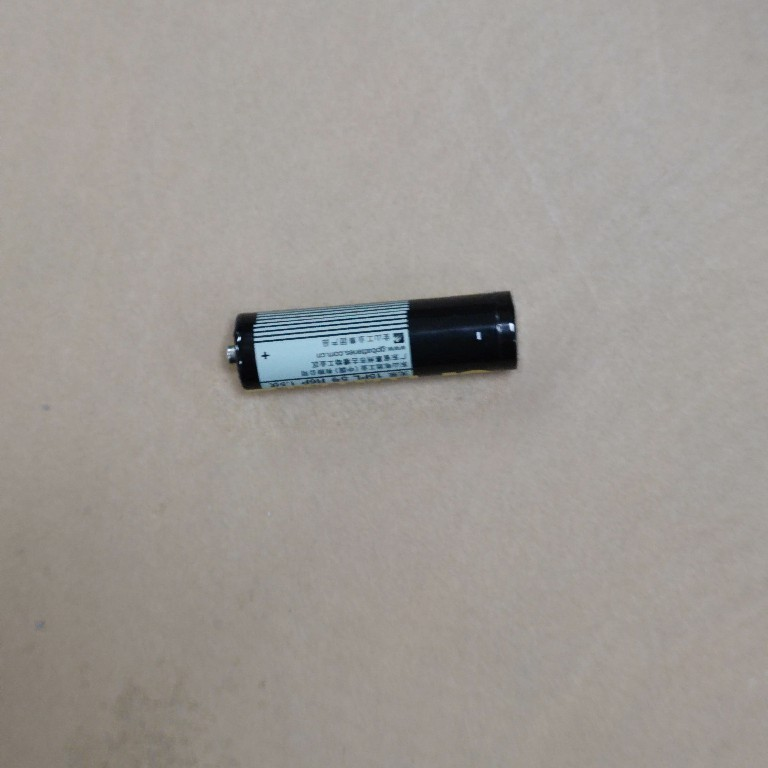charge: (224, 287, 531, 396)
